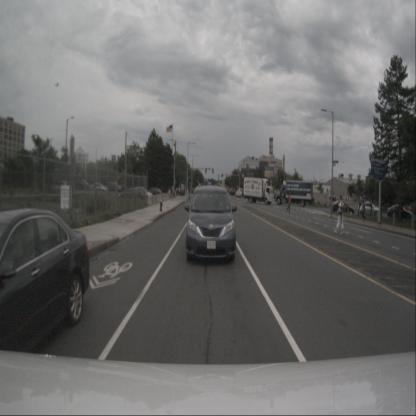human-pedestrian-adult: (335, 194, 344, 235), (286, 192, 291, 213), (361, 200, 365, 222)
vehicle-car: (0, 208, 90, 365), (186, 186, 236, 262), (387, 204, 413, 223), (357, 202, 381, 218), (332, 200, 354, 216), (127, 188, 148, 202), (74, 179, 93, 193), (134, 186, 154, 199), (52, 180, 70, 194), (92, 182, 108, 194), (150, 187, 164, 198), (108, 182, 122, 192), (235, 190, 242, 198), (238, 188, 244, 197), (230, 187, 235, 195)
vehicle-truck: (275, 180, 312, 207), (244, 177, 274, 205)
